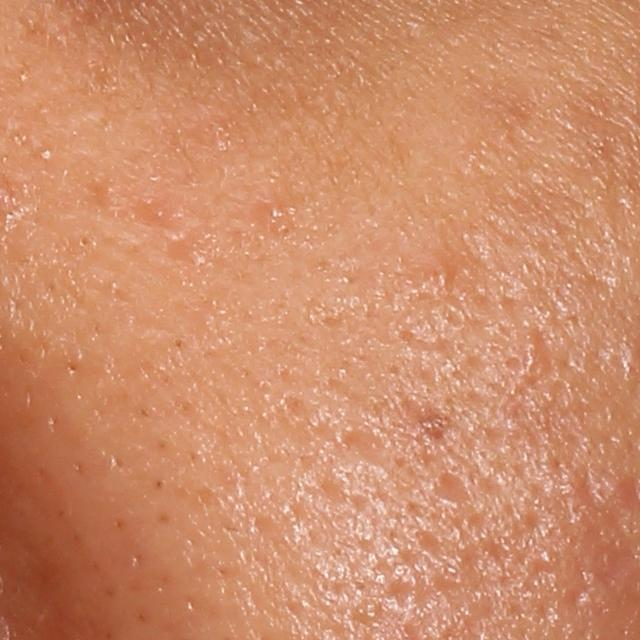atrophic_scar: (560, 524, 637, 617), (341, 428, 387, 463), (430, 471, 473, 508)
comedo: (76, 232, 94, 252), (39, 147, 56, 165)
